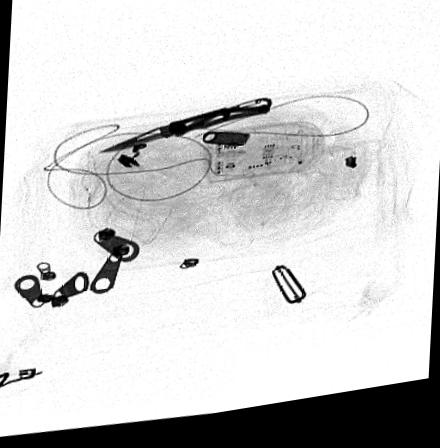Knife: (94, 104, 272, 157)
